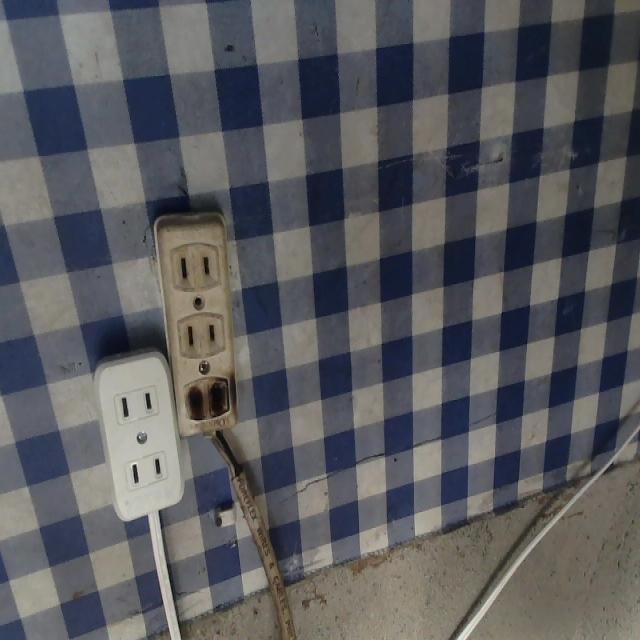-: (180, 375, 242, 424)
